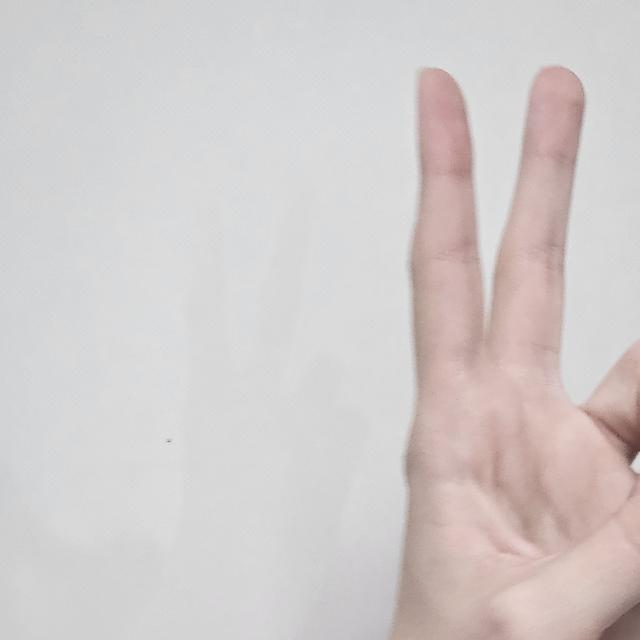Triangulo: (391, 67, 640, 640)
